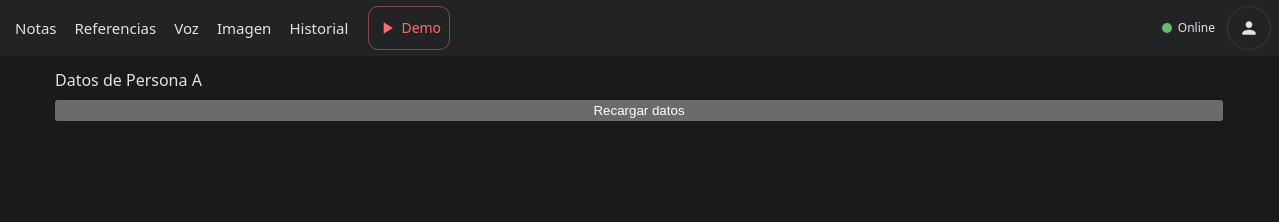
Test: Cierre de sesión › con error del servidor conserva la sesión y el mensaje, y el reintento la cierra
This screenshot has width=1279, height=222.
Later steps or results of the test are not shown.
Expected: the text "Datos de Persona A" is shown, [55,69,202,91]
Click the button named "Cuenta de ": (1249, 28) [1227,6,1271,50]
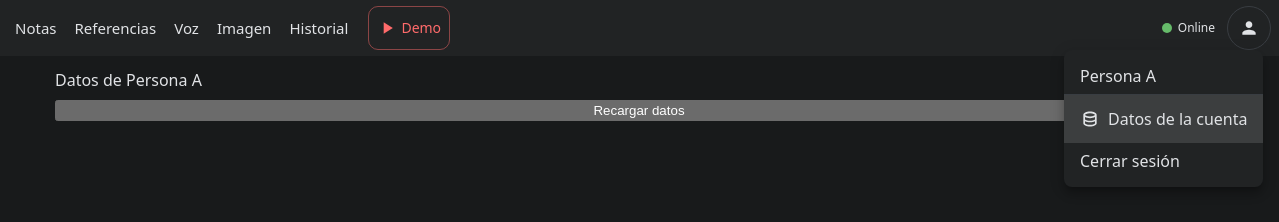
Click the menu item "Cerrar sesión": (1130, 161) [1080,150,1180,172]
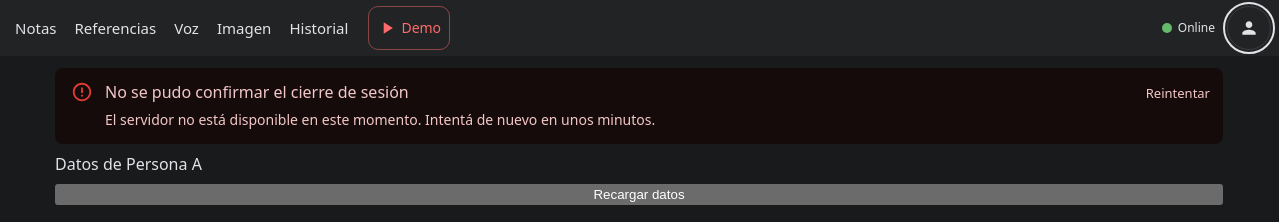
Expected: the button named "Cuenta de Persona A" is shown, [1227,6,1271,50]
Result: the text "No se pudo confirmar el cierre de sesión" is shown at [105,81,409,103]
Result: the message that starts with "No se pudo confirmar el cierre de sesión" shows "El servidor no está disponible" at [105,110,655,129]
